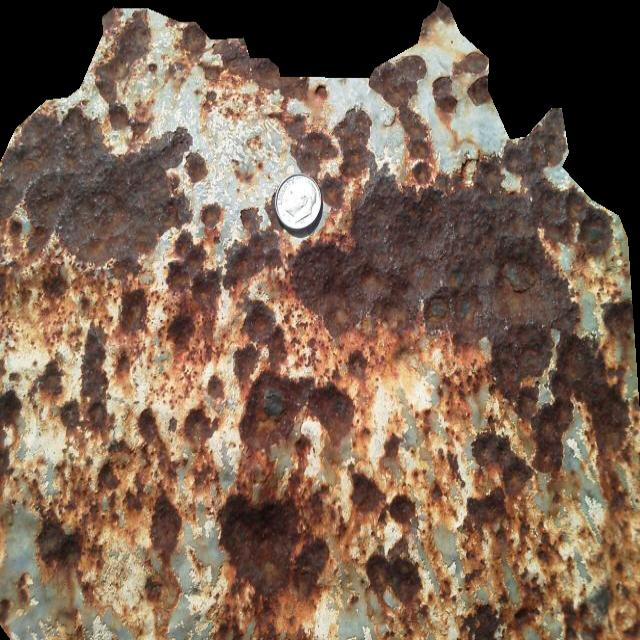Pitting Corrosion: (0, 0, 640, 640)
